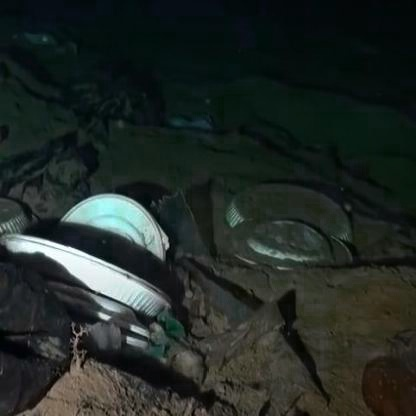plastic: (21, 212, 184, 347), (241, 192, 385, 272)
